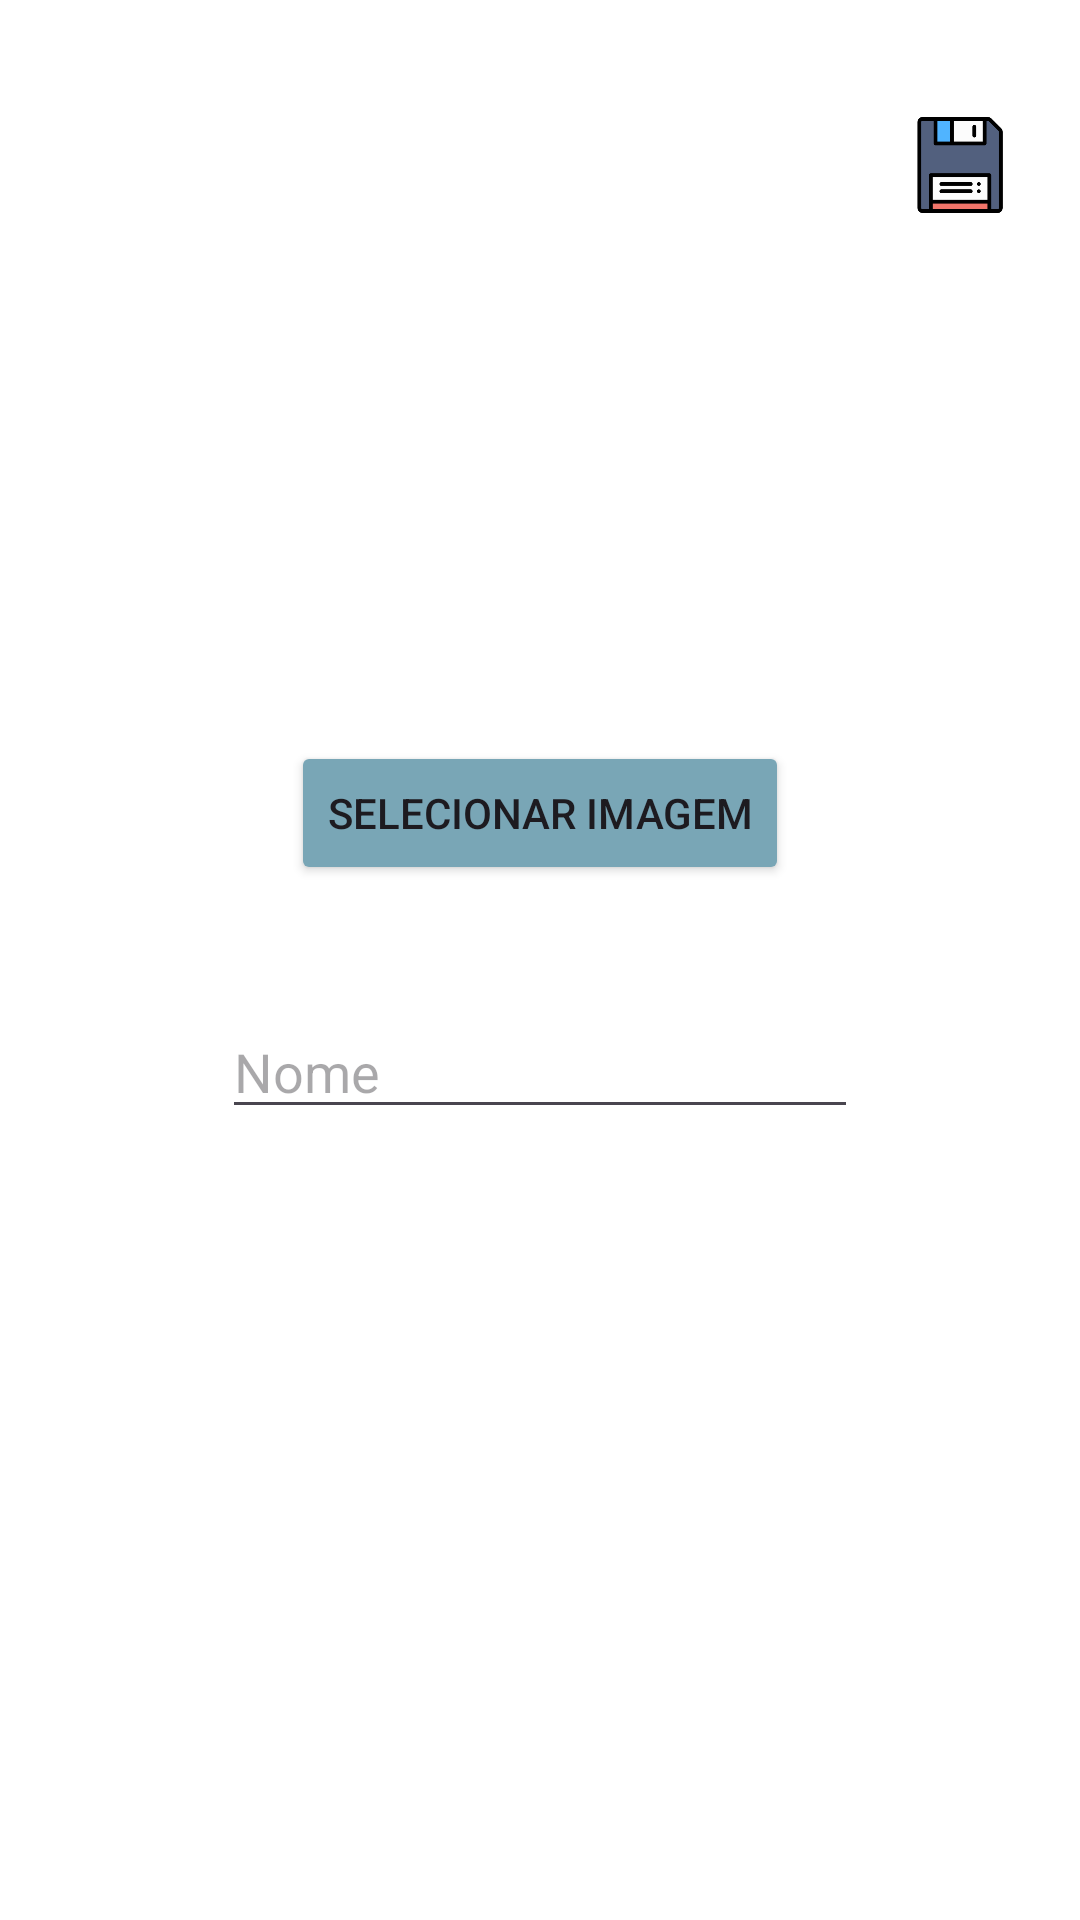

Where icons sit on this 1080×1920 app screen, as [x1=x1, y1=y1, x2=x2, y2=y2]:
Salvar: [x1=917, y1=117, x2=1003, y2=213]
